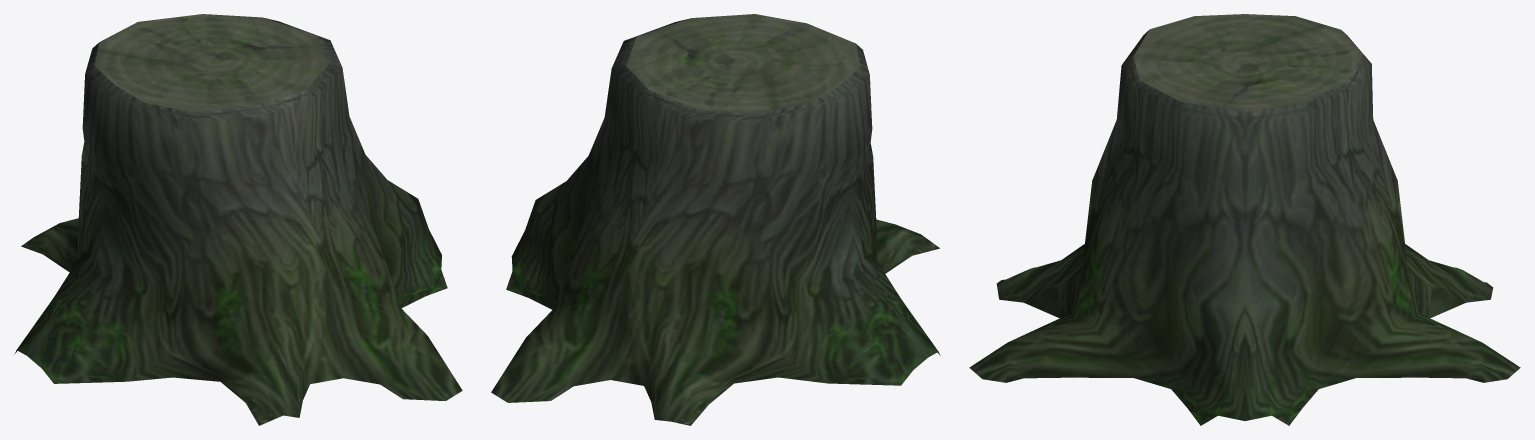
File: Wujian_shuzhuang_002.FBX
The picture shows the model from 3 angles, left to right: view 1: azimuth 30°, elevation 25°; view 2: azimuth 150°, elevation 25°; view 3: azimuth 270°, elevation 25°; orthographic projection.
Visible parts, largest first — view 1: Wujian_shuzhuang_002; view 2: Wujian_shuzhuang_002; view 3: Wujian_shuzhuang_002.
Boxes of the visible parts, left/top/right/bottom form: Wujian_shuzhuang_002: left=14, top=14, right=462, bottom=425; Wujian_shuzhuang_002: left=491, top=14, right=940, bottom=425; Wujian_shuzhuang_002: left=969, top=14, right=1520, bottom=425.
Bounding box in the file's own units: 276 × 168 × 319.
